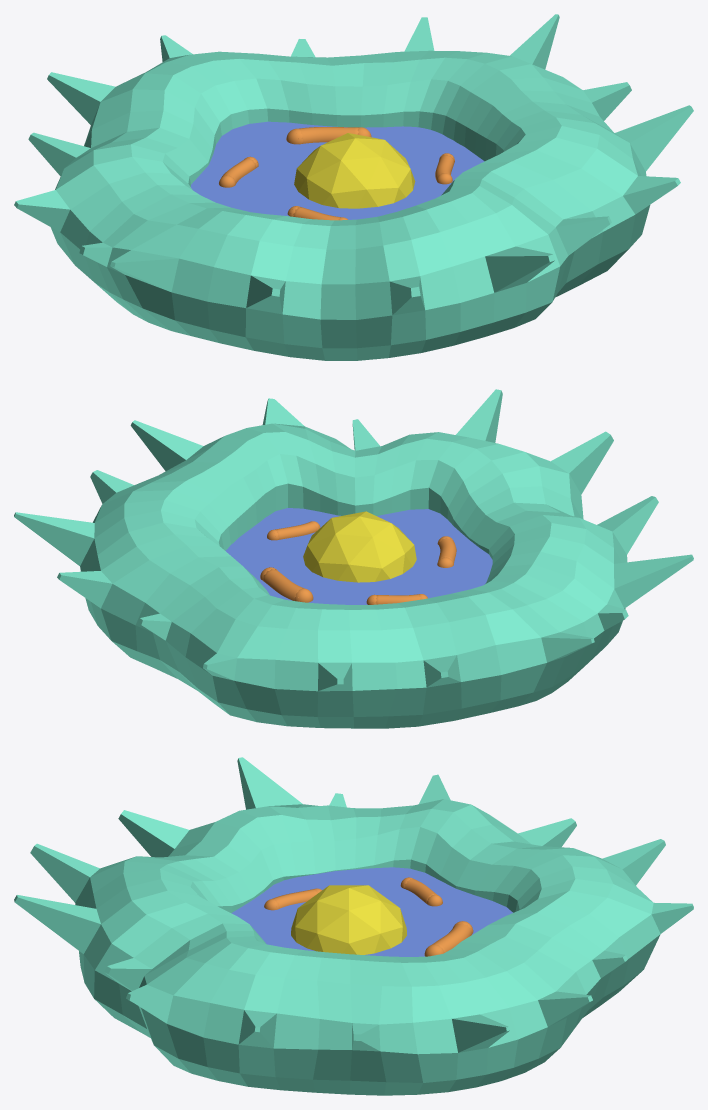
Rendered from MediumEnemyCell.fbx.
3 views of the same model, one above another, from view 1: azimuth 30°, elevation 25°; view 2: azimuth 150°, elevation 25°; view 3: azimuth 270°, elevation 25° (orthographic). The views are drawn at different scales.
Visible parts, largest first — view 1: CellMembrane; view 2: CellMembrane; view 3: CellMembrane.
Part boxes in pixels (bbox=[...]): CellMembrane: bbox=[14, 14, 693, 360]; CellMembrane: bbox=[14, 389, 693, 728]; CellMembrane: bbox=[14, 757, 693, 1095].
Bounding box in the file's own units: 2.65 × 0.6159 × 2.74.
